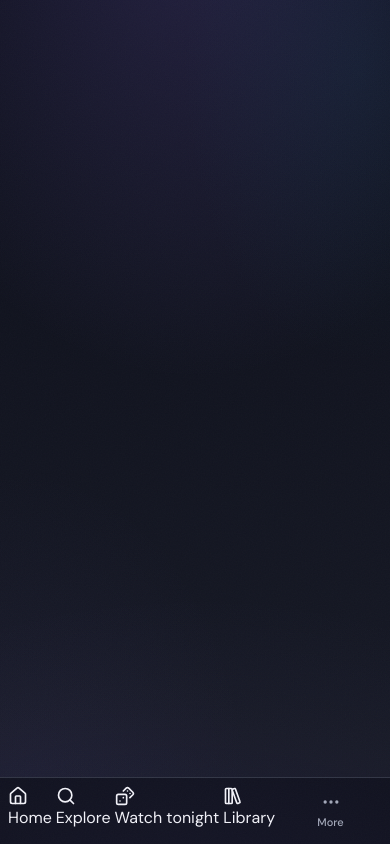
MobileTabBar › has no detectable accessibility violations with the More sheet open
Click the button "More": (330, 811) [279,786,382,836]
(page scrolled)
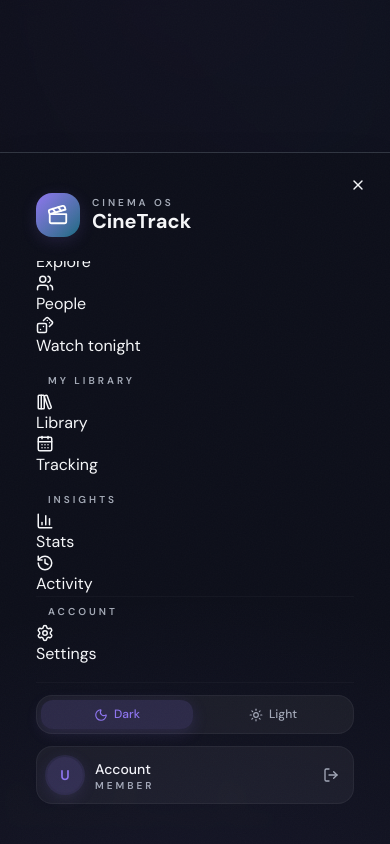
Expected: the link "Settings" is shown, [36,624,97,664]
